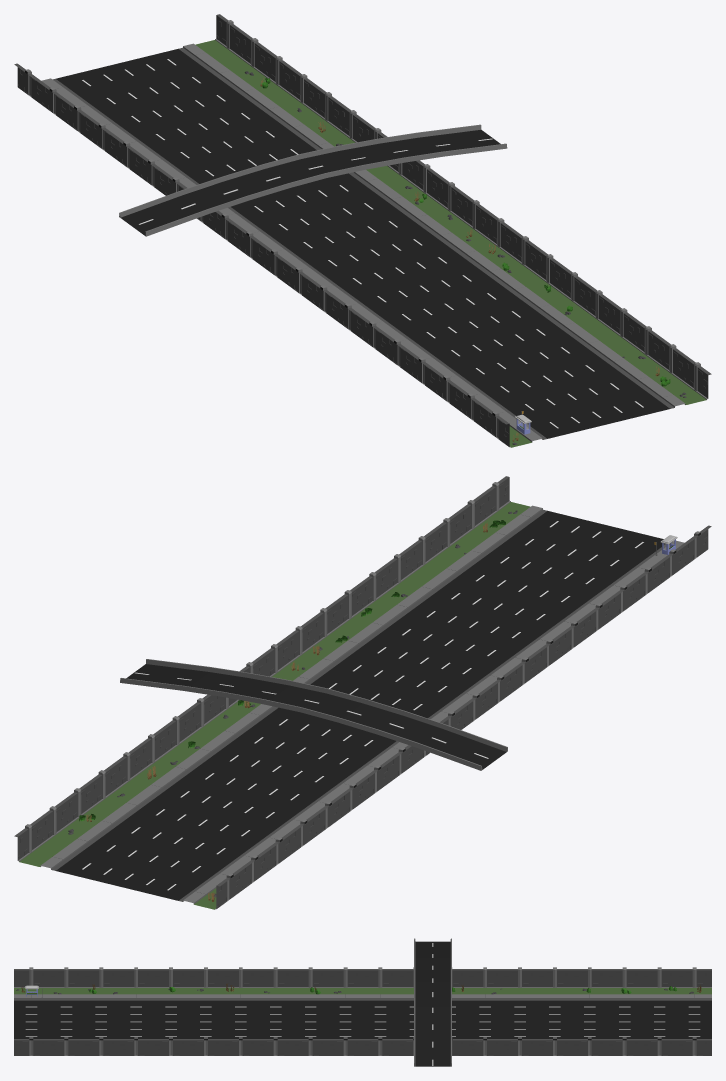
File: Road.fbx
3 renders of one model, top to bottom at view 1: azimuth 30°, elevation 25°; view 2: azimuth 150°, elevation 25°; view 3: azimuth 270°, elevation 25°, orthographic. The views are drawn at different scales.
Visible parts, largest first — view 1: Plane, Plane.495; view 2: Plane, Plane.495; view 3: Plane, Plane.495, Plane.001, Plane.003, Plane.002, Plane.004, Plane.005.
Boxes of the visible parts, x1,y1,x2,y2 form: Plane: (14,14,711,447); Plane.495: (119,124,507,236); Plane: (14,476,711,909); Plane.495: (120,659,507,770); Plane: (14,967,711,1055); Plane.495: (414,938,451,1066); Plane.001: (26,1021,699,1022); Plane.003: (26,1006,699,1007); Plane.002: (25,1014,700,1014); Plane.004: (25,1036,700,1036); Plane.005: (25,1029,700,1029).
Bounding box in the file's own units: 5085 × 633 × 12000.
